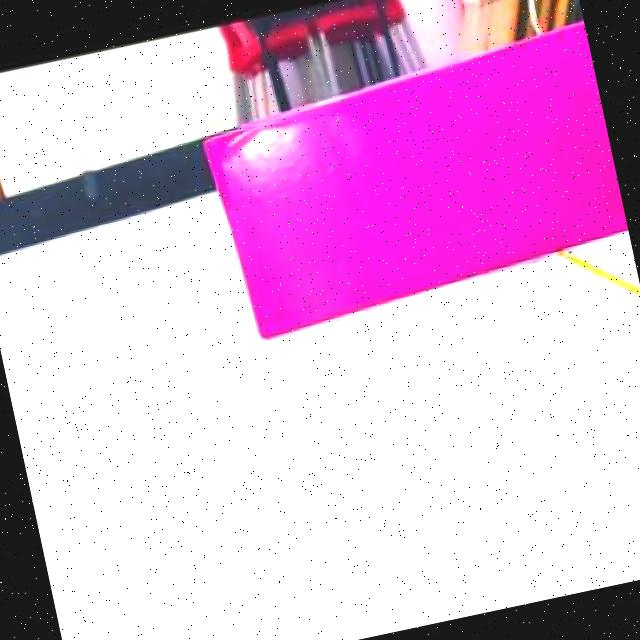xparking: (210, 55, 632, 332)
